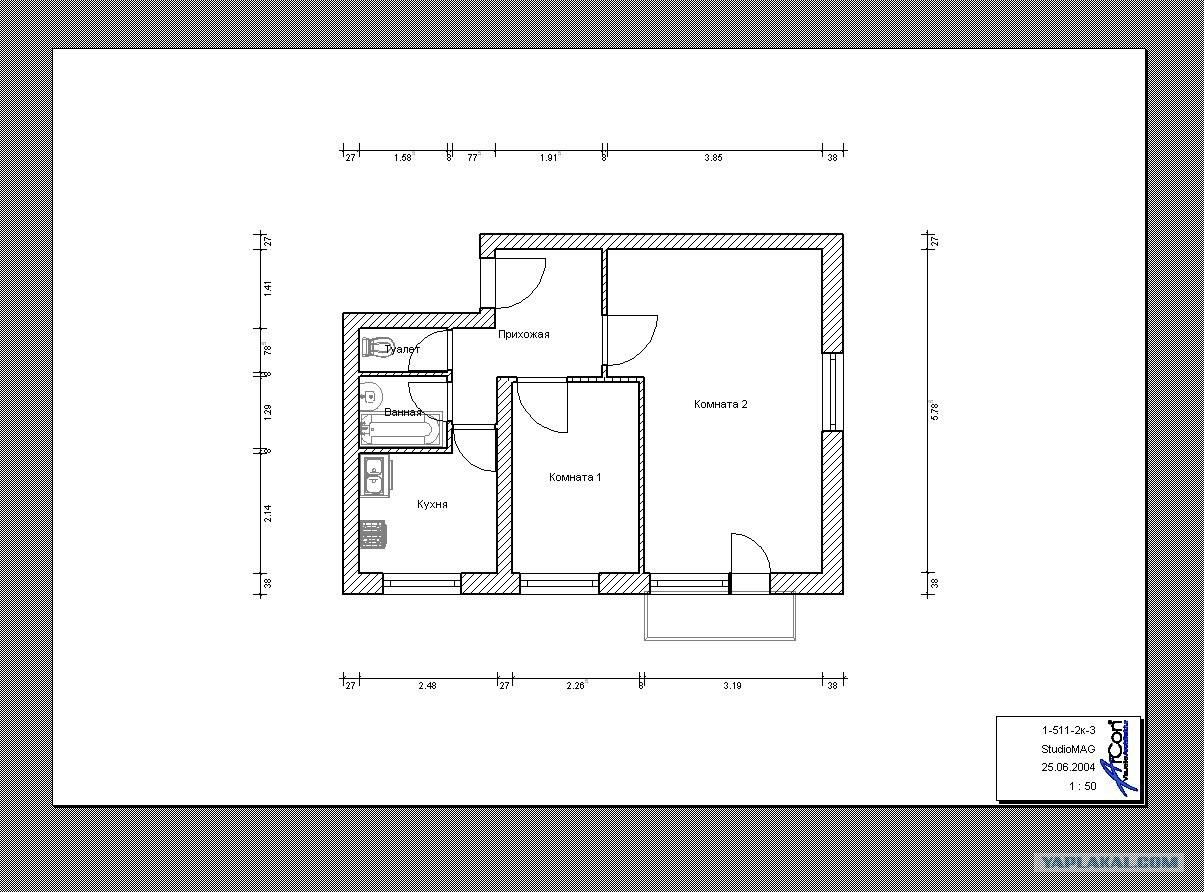bathroom: (360, 376, 449, 445)
bedroom: (512, 382, 640, 574)
hallway: (452, 250, 601, 424)
kitchen: (360, 429, 497, 574)
living_room: (606, 250, 821, 574)
toilet: (356, 328, 448, 372)
